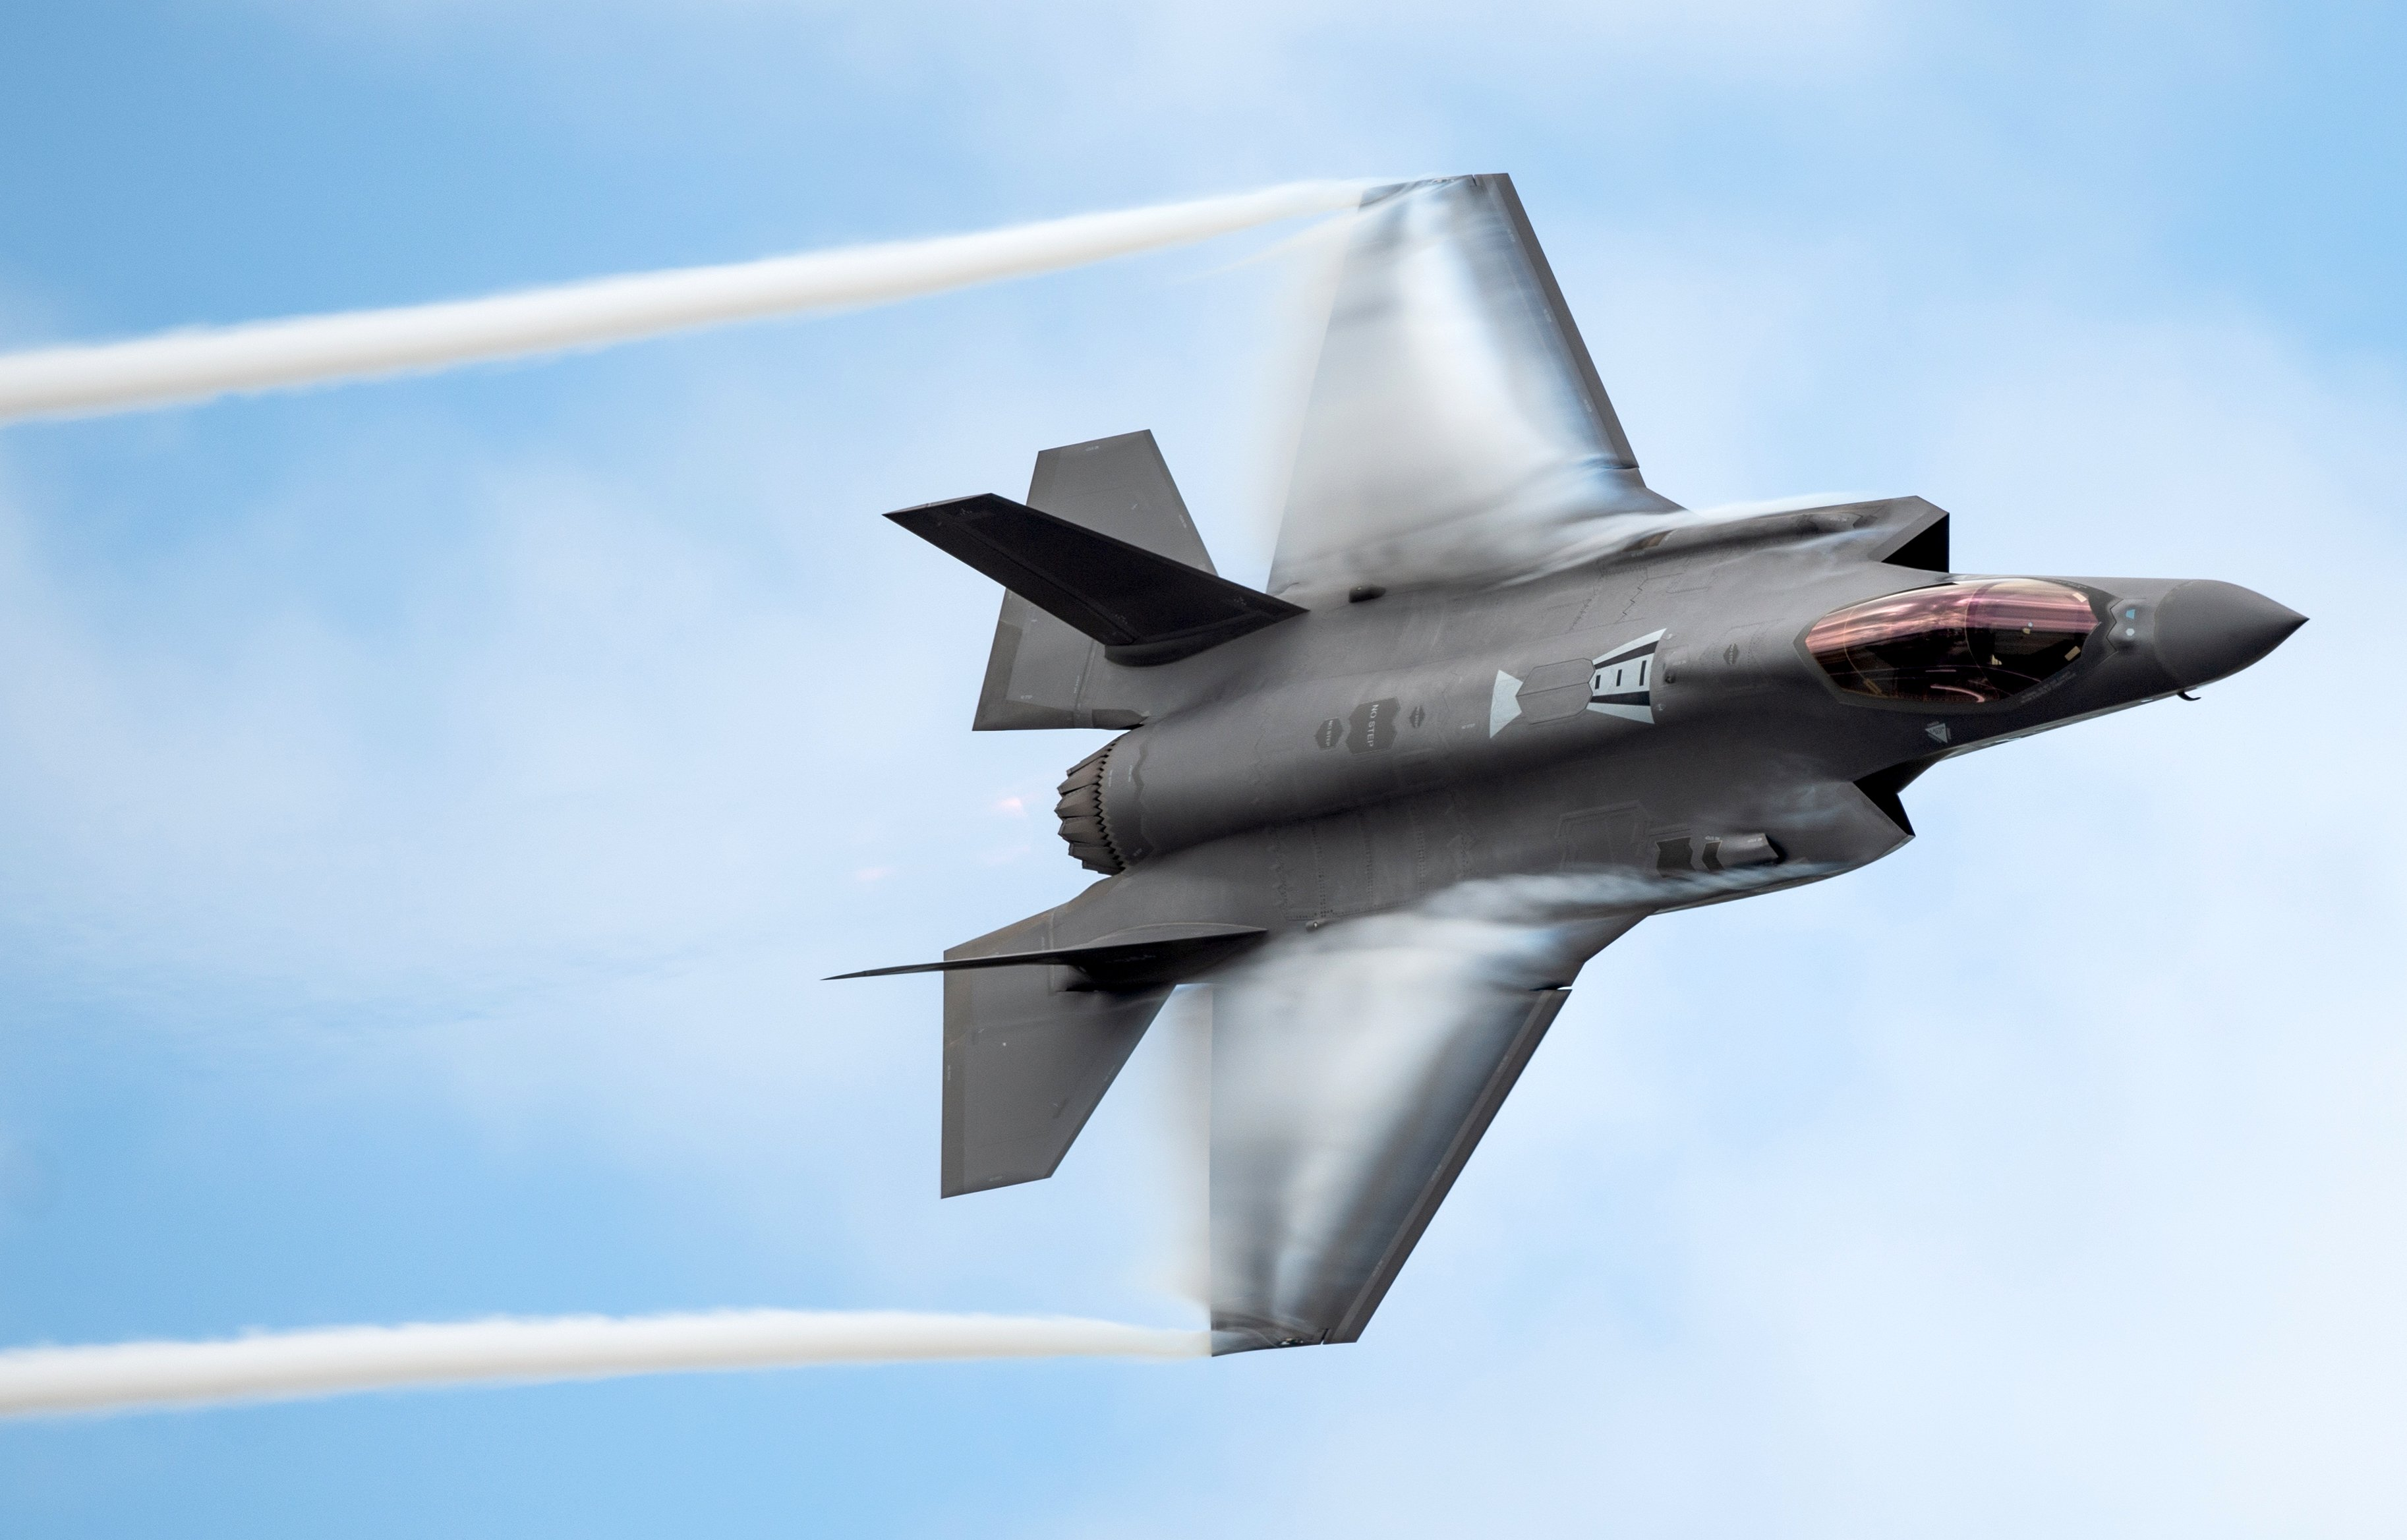F-35 Lightning: (842, 125, 2318, 1361)
